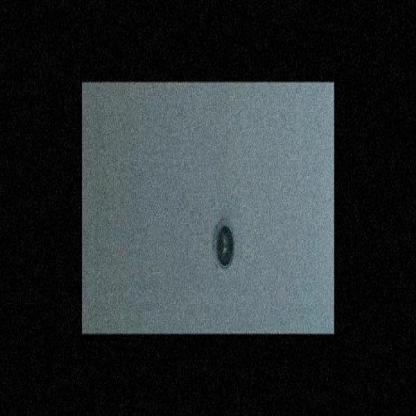light_off: (207, 204, 239, 283)
